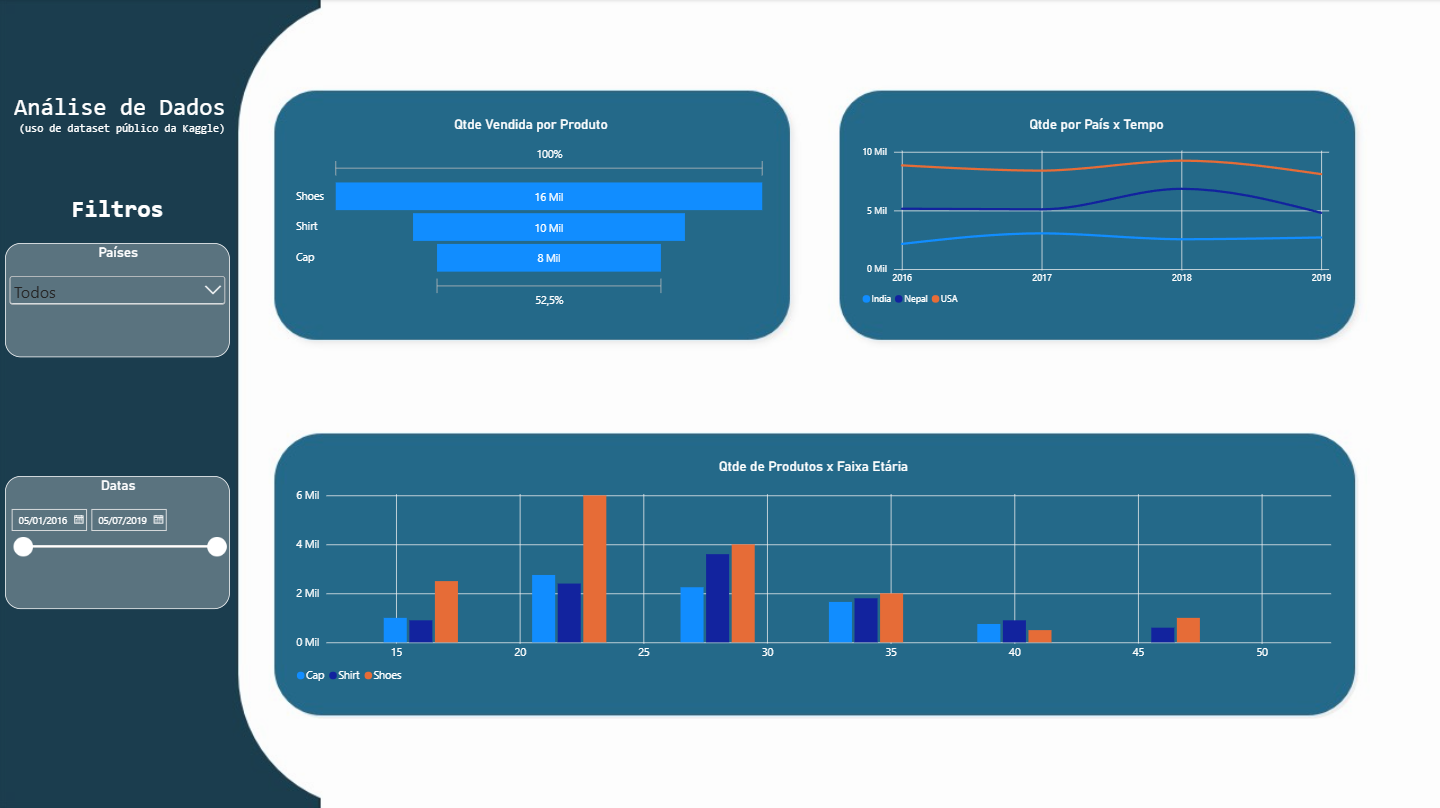

The page's visual inventory and layout, read from the dashboard file:
{"tool":"powerbi","page":{"name":"Página 1","canvas":[1920,1080],"ordinal":0},"visuals":[{"type":"funnel","title":"Qtde Vendida por Produto","fields":{"Category":["Dados. Product"],"Y":["Sum(Dados. Amount)"]},"box":[380.4,142.3,657,286],"z":0},{"type":"stackedAreaChart","title":"Qtde por País x Tempo","fields":{"Category":["Calendario.Ano"],"Series":["Dados. Country"],"Y":["Sum(Dados. Amount)"]},"box":[1133.2,142.3,655.7,286],"z":1000},{"type":"clusteredColumnChart","title":"Qtde de Produtos x Faixa Etária","fields":{"Category":["Dados.Faixa etária"],"Series":["Dados. Product"],"Y":["Sum(Dados. Amount)"]},"box":[380.4,597.2,1408.5,332.5],"z":1001},{"type":"textbox","title":"Análise de Dados","box":[21.3,125,287.3,99.8],"z":1002},{"type":"slicer","title":"Datas","fields":{"Values":["Calendario.Date"]},"box":[9.3,634.4,299.3,176.9],"z":1003},{"type":"textbox","box":[9.3,260.7,299.3,63.8],"z":1005},{"type":"slicer","title":"Países","fields":{"Values":["Dados. Country"]},"box":[9.3,324.5,299.3,151.6],"z":1006}]}

Visuals, with their boxes in screenshot pixels (x1, y1, x2, y2), scaled from the page's 1920x1080 canvas onto the 1440x808 screenshot:
"Qtde Vendida por Produto" funnel: box=[285, 106, 778, 320]
"Qtde por País x Tempo" stackedAreaChart: box=[850, 106, 1342, 320]
"Qtde de Produtos x Faixa Etária" clusteredColumnChart: box=[285, 447, 1342, 696]
"Análise de Dados" textbox: box=[16, 94, 231, 168]
"Datas" slicer: box=[7, 475, 231, 607]
textbox: box=[7, 195, 231, 243]
"Países" slicer: box=[7, 243, 231, 356]
